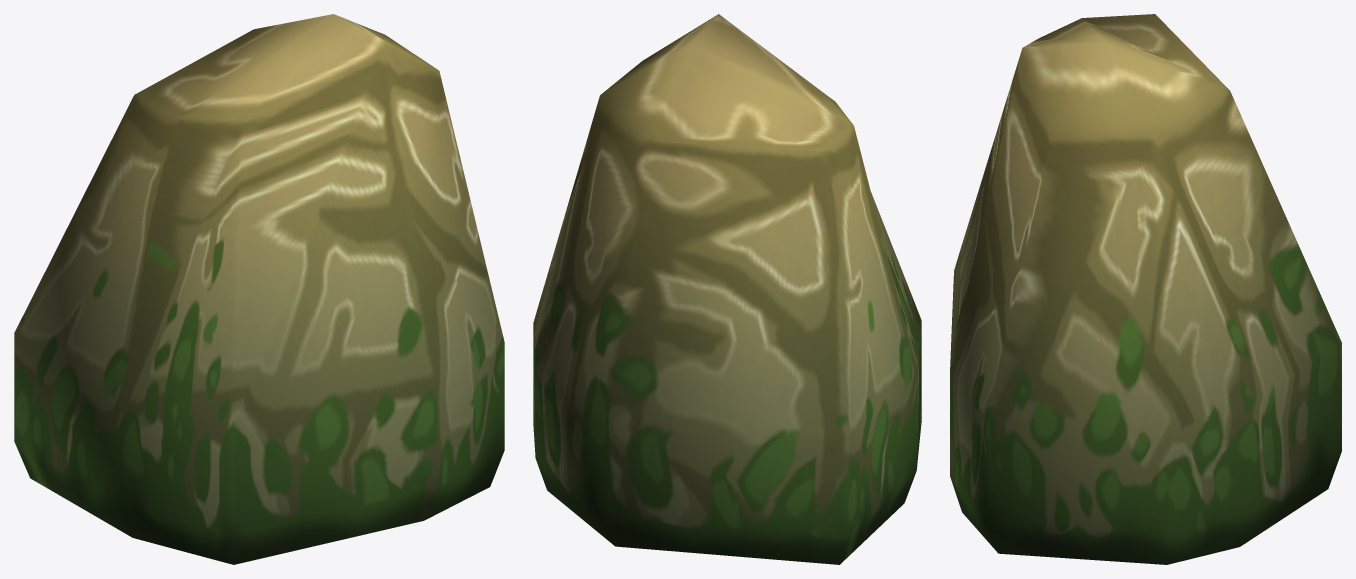
File: Rock_07.FBX
3 views of the same model, side by side, from view 1: azimuth 30°, elevation 25°; view 2: azimuth 150°, elevation 25°; view 3: azimuth 270°, elevation 25° (orthographic). The views are drawn at different scales.
Parts seen in each view (by area): view 1: Rock_07; view 2: Rock_07; view 3: Rock_07.
Part boxes in pixels (x1,y1,x2,y2): Rock_07: (14,14,504,564); Rock_07: (533,14,921,564); Rock_07: (950,14,1341,564).
Bounding box in the file's own units: 0.384 × 0.4396 × 0.3387.
